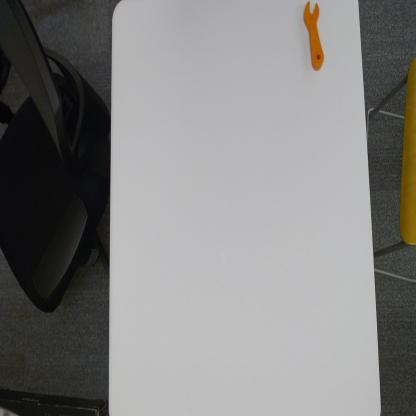Screwdriver: (302, 0, 326, 75)
